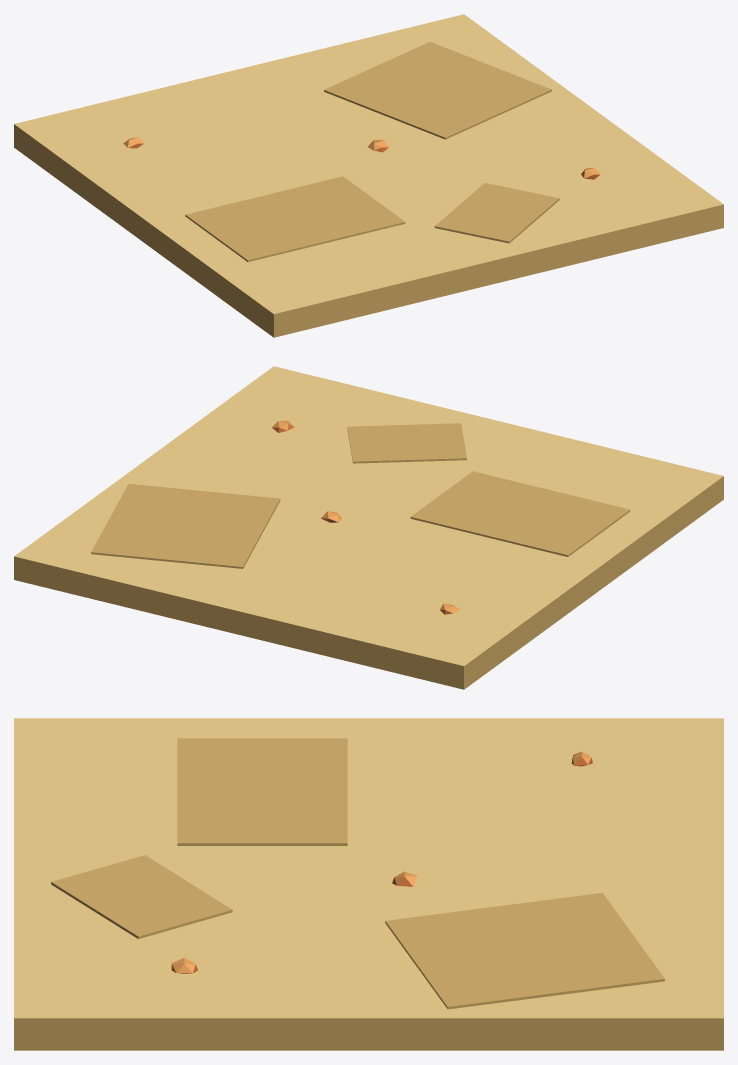
Rendered from CA_Suelo_Arena_10.obj.
3 renders of one model, top to bottom at view 1: azimuth 30°, elevation 25°; view 2: azimuth 150°, elevation 25°; view 3: azimuth 270°, elevation 25°, orthographic. The views are drawn at different scales.
Visible parts, largest first — view 1: CA_Suelo_Arena_10; view 2: CA_Suelo_Arena_10; view 3: CA_Suelo_Arena_10.
Boxes of the visible parts, box(x1,y1,x2,y2) form: CA_Suelo_Arena_10: box(14, 14, 723, 337); CA_Suelo_Arena_10: box(14, 366, 723, 689); CA_Suelo_Arena_10: box(14, 718, 723, 1050).
Size of the model in its own units: 10 by 0.6657 by 10.
